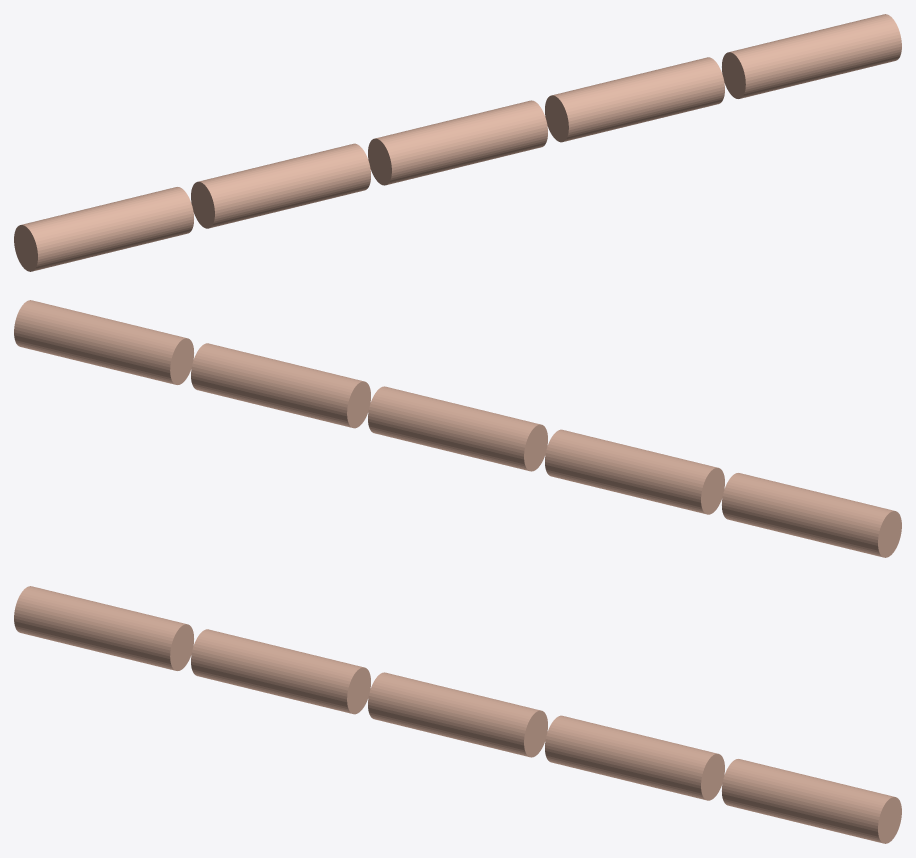
File: compact-hinge.glb
3 views of the same model, one above another, from view 1: azimuth 30°, elevation 25°; view 2: azimuth 150°, elevation 25°; view 3: azimuth 330°, elevation 25° (orthographic).
Parts seen in each view (by area): view 1: Concept hinge barrel.002, Concept hinge barrel.001, Concept hinge barrel.003, Concept hinge barrel, Concept hinge barrel.004; view 2: Concept hinge barrel.002, Concept hinge barrel.001, Concept hinge barrel.003, Concept hinge barrel, Concept hinge barrel.004; view 3: Concept hinge barrel.002, Concept hinge barrel.003, Concept hinge barrel.001, Concept hinge barrel.004, Concept hinge barrel.
Part boxes in pixels (x1,y1,x2,y2): Concept hinge barrel.002: (368, 100, 547, 185); Concept hinge barrel.001: (191, 143, 370, 228); Concept hinge barrel.003: (545, 57, 724, 142); Concept hinge barrel: (14, 187, 193, 271); Concept hinge barrel.004: (722, 14, 901, 98); Concept hinge barrel.002: (368, 386, 547, 471); Concept hinge barrel.001: (545, 429, 724, 514); Concept hinge barrel.003: (191, 343, 370, 428); Concept hinge barrel: (722, 473, 901, 557); Concept hinge barrel.004: (14, 300, 193, 384); Concept hinge barrel.002: (368, 672, 547, 757); Concept hinge barrel.003: (545, 715, 724, 800); Concept hinge barrel.001: (191, 629, 370, 714); Concept hinge barrel.004: (722, 759, 901, 843); Concept hinge barrel: (14, 586, 193, 670).
Size of the model in its own units: 83 by 4 by 4.
